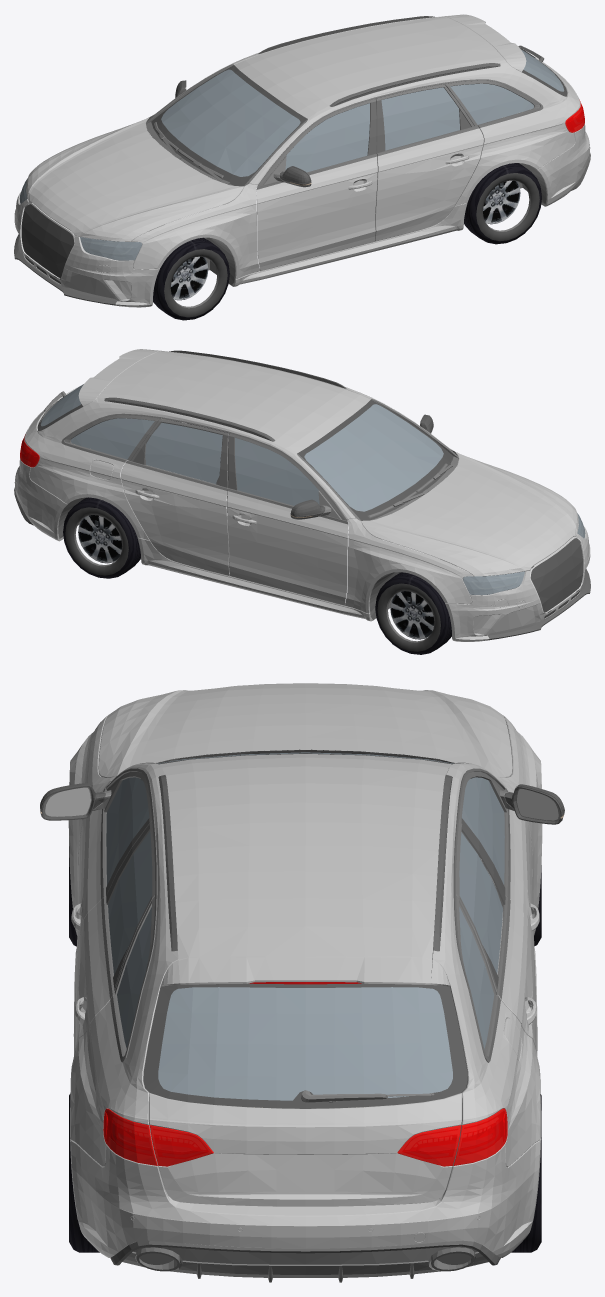
The model's file is stationwagon.gltf.
3 renders of one model, top to bottom at view 1: azimuth 30°, elevation 25°; view 2: azimuth 150°, elevation 25°; view 3: azimuth 270°, elevation 25°, orthographic. The views are drawn at different scales.
Visible parts, largest first — view 1: chassis_001, bonnet_ok_001, door_lf_ok_001, Windshield_001, door_lr_ok_001, bump_fro01_001, tyre01, tyre002, doorwin01_001, doorwin_001, bump_rea01_001, Quarter_Window_002 (+4 smaller); view 2: chassis_001, bonnet_ok_001, door_rf_ok_001, Windshield_001, door_lr_ok_003, bump_fro01_001, tyre002, tyre01, doorwin_002, doorwin01_002, bump_rea01_001, Quarter_Window_001 (+4 smaller); view 3: chassis_001, lightglsbo_001, bump_rea01_001, boot_ok_001, bonnet_ok_001, door_lf_ok_001, door_rf_ok_001, door_lr_ok_003, door_lr_ok_001, doorwin01_001, doorwin01_002, doorwin_001 (+10 smaller).
Part boxes in pixels (bbox=[...]): chassis_001: bbox=[50, 16, 580, 286]; bonnet_ok_001: bbox=[26, 117, 243, 241]; door_lf_ok_001: bbox=[256, 98, 377, 270]; Windshield_001: bbox=[151, 65, 307, 186]; door_lr_ok_001: bbox=[375, 84, 483, 241]; bump_fro01_001: bbox=[14, 192, 159, 307]; tyre01: bbox=[153, 237, 229, 320]; tyre002: bbox=[464, 163, 541, 244]; doorwin01_001: bbox=[381, 87, 459, 150]; doorwin_001: bbox=[285, 103, 369, 172]; bump_rea01_001: bbox=[536, 123, 590, 206]; Quarter_Window_002: bbox=[450, 83, 533, 124]; chassis_001: bbox=[24, 350, 557, 621]; bonnet_ok_001: bbox=[361, 452, 578, 576]; door_rf_ok_001: bbox=[227, 433, 348, 605]; Windshield_001: bbox=[297, 399, 453, 520]; door_lr_ok_003: bbox=[121, 418, 229, 575]; bump_fro01_001: bbox=[445, 526, 590, 641]; tyre002: bbox=[63, 423, 228, 578]; tyre01: bbox=[375, 572, 451, 654]; doorwin_002: bbox=[235, 437, 319, 505]; doorwin01_002: bbox=[145, 422, 222, 483]; bump_rea01_001: bbox=[14, 420, 178, 541]; Quarter_Window_001: bbox=[71, 418, 154, 459]; chassis_001: bbox=[68, 715, 542, 1167]; lightglsbo_001: bbox=[143, 982, 467, 1108]; bump_rea01_001: bbox=[70, 1138, 541, 1282]; boot_ok_001: bbox=[149, 957, 461, 1206]; bonnet_ok_001: bbox=[98, 683, 512, 777]; door_lf_ok_001: bbox=[40, 771, 152, 1027]; door_rf_ok_001: bbox=[459, 771, 564, 1023]; door_lr_ok_003: bbox=[456, 821, 537, 1055]; door_lr_ok_001: bbox=[74, 822, 155, 1053]; doorwin01_001: bbox=[108, 831, 152, 974]; doorwin01_002: bbox=[459, 832, 502, 973]; doorwin_001: bbox=[106, 777, 149, 885].
Bounding box in the file's own units: 3.21 × 0.9756 × 1.39.
31 materials, 2 textured.
